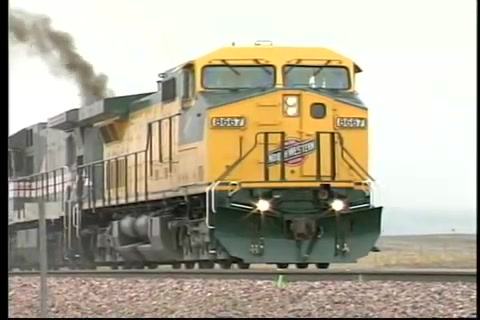train: (10, 43, 385, 271)
